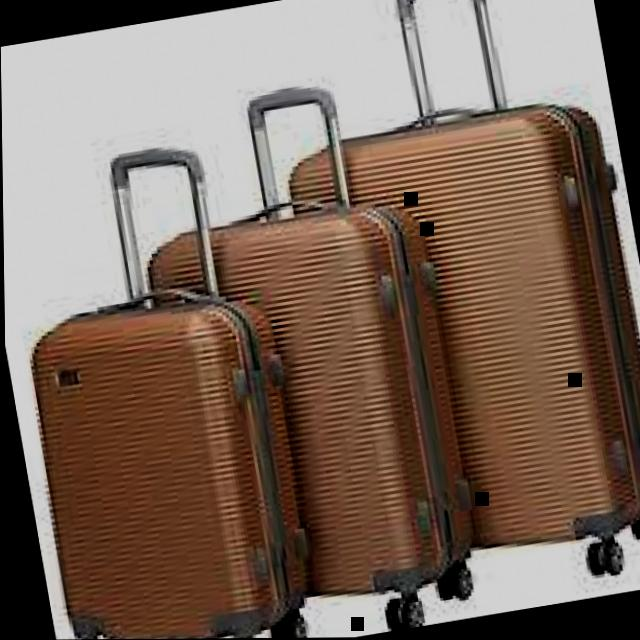luggage: (264, 74, 640, 596), (122, 171, 494, 637), (3, 263, 329, 640)
